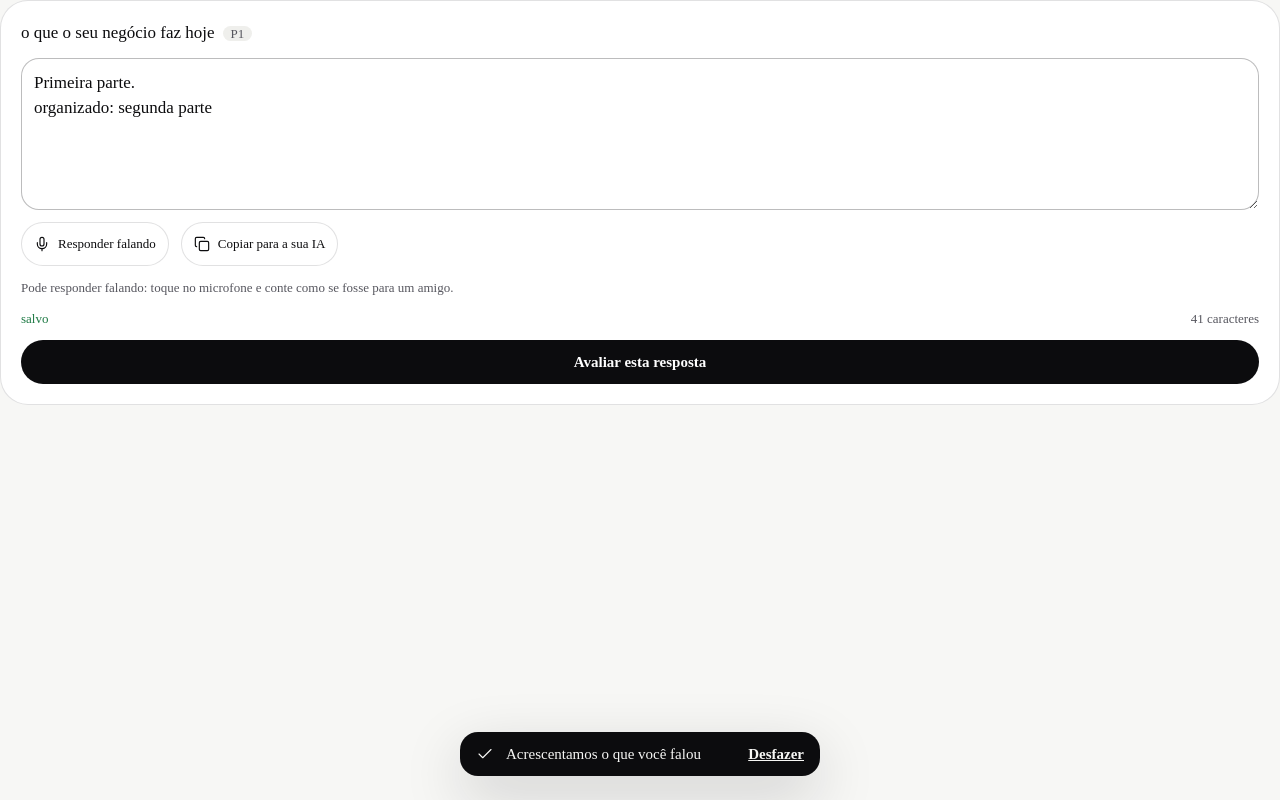
it: PerguntaCampo, Responder falando › desfazer depois de somar volta exatamente ao texto de antes da segunda gravação
What coordinates should you click on to do the following:
click the button "Desfazer"
I would click on:
 (776, 754)
Its box is [748, 743, 804, 765].
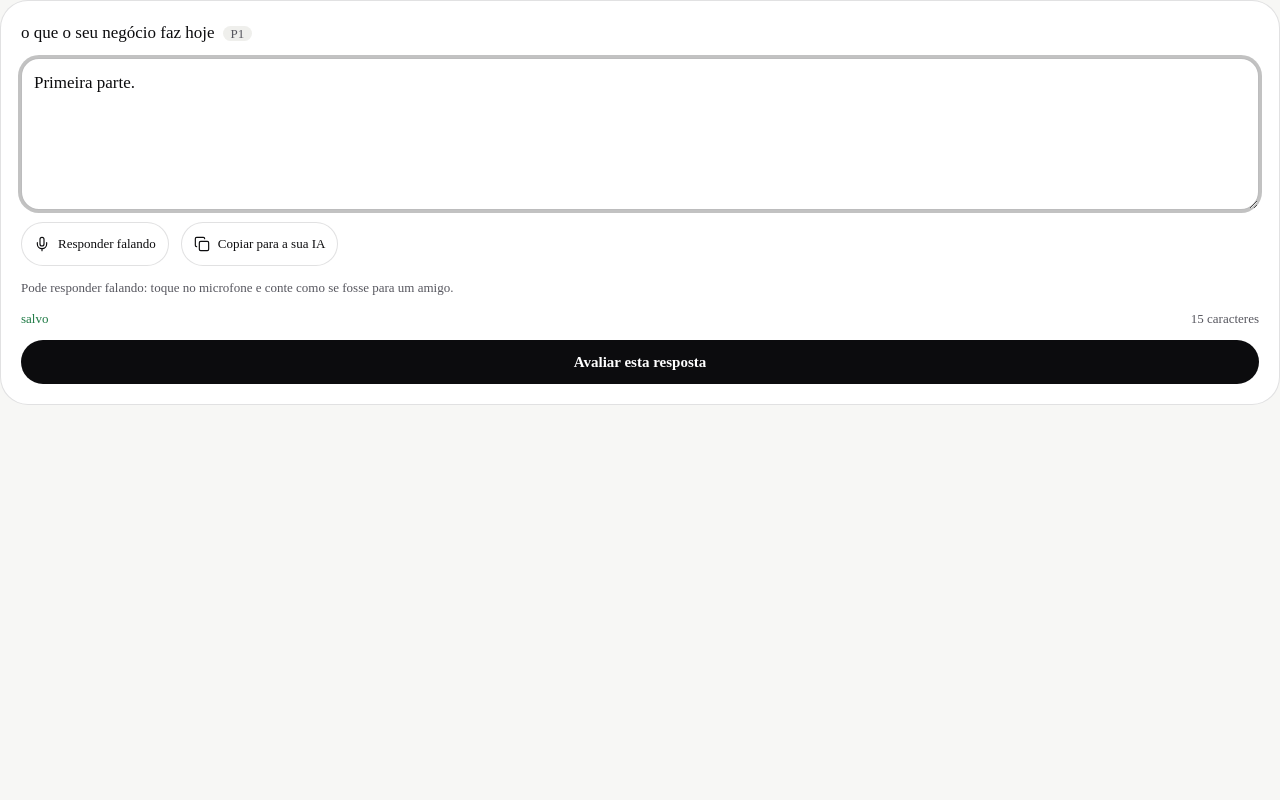
expect the text box named "o que o seu negócio faz hoje" holds "Primeira parte.": met, box [21, 58, 1259, 210]
